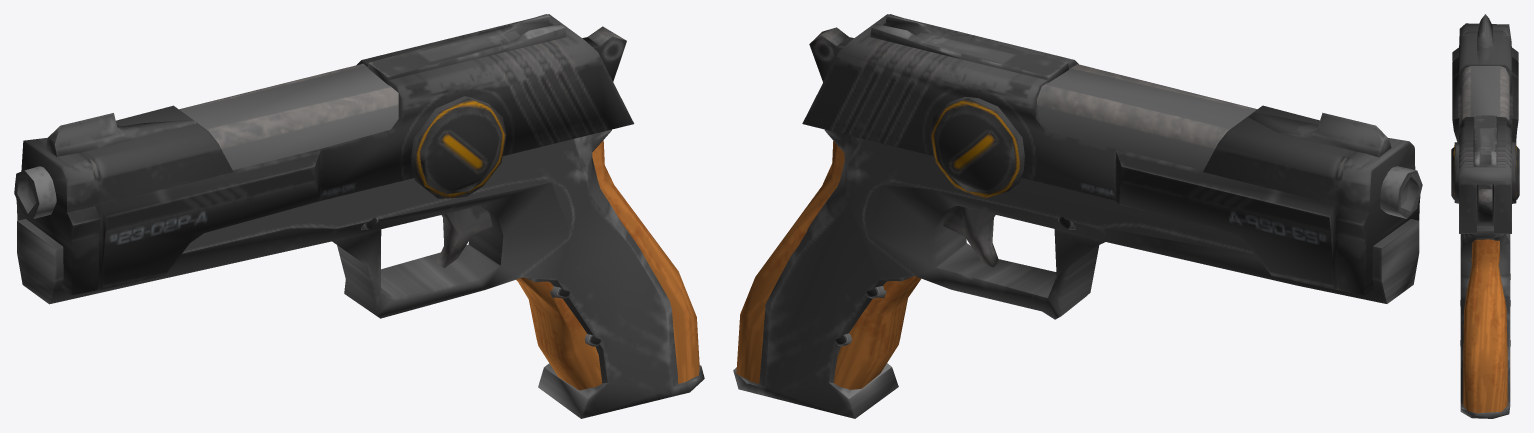
The model's file is DZ_Gun_Pistol.fbx.
3 renders of one model, left to right at view 1: azimuth 30°, elevation 25°; view 2: azimuth 150°, elevation 25°; view 3: azimuth 270°, elevation 25°, orthographic. The views are drawn at different scales.
Parts seen in each view (by area): view 1: Gun_Pistol; view 2: Gun_Pistol; view 3: Gun_Pistol.
Part boxes in pixels (x1,y1,x2,y2): Gun_Pistol: [14, 14, 704, 418]; Gun_Pistol: [733, 14, 1422, 418]; Gun_Pistol: [1451, 14, 1519, 418].
Size of the model in its own units: 0.4424 by 0.2525 by 0.0686.
